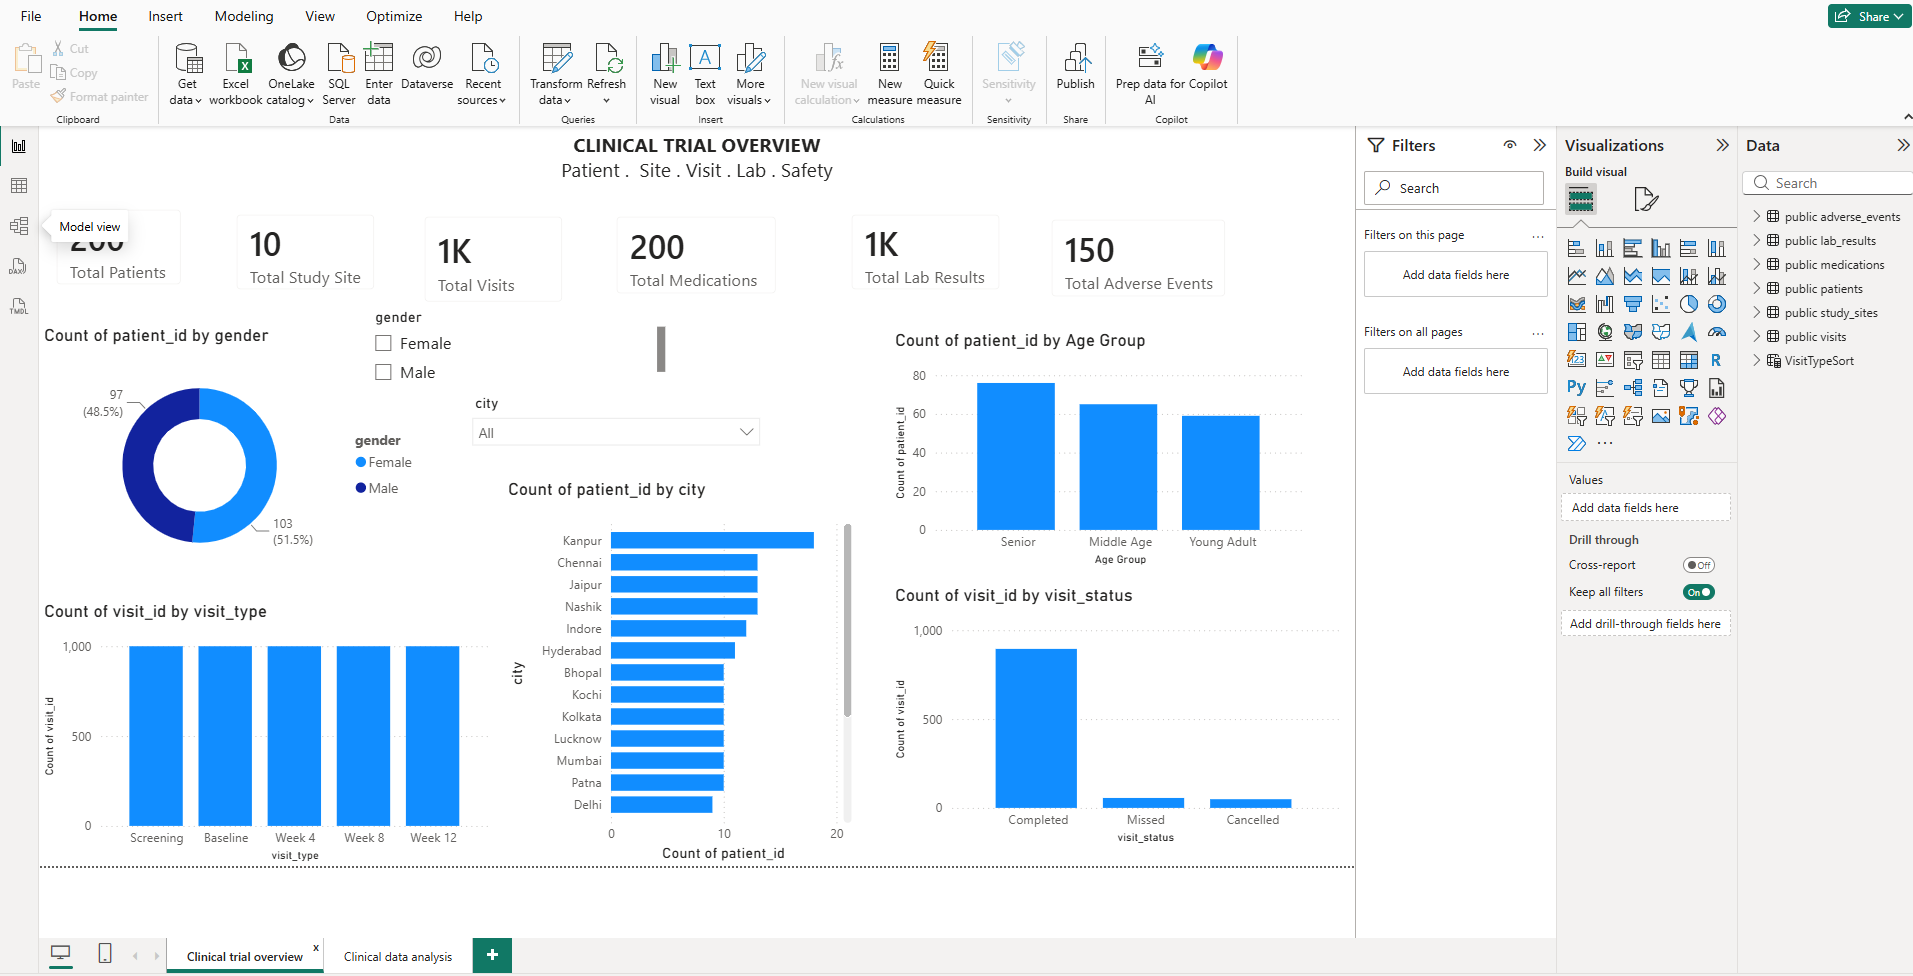

The page's visual inventory and layout, read from the dashboard file:
{"tool":"powerbi","page":{"name":"Clinical trial overview","canvas":[1280,720],"ordinal":0},"visuals":[{"type":"cardVisual","fields":{"Data":["public patients.Total Patients"]},"box":[0,64.2,155.6,108],"z":0},{"type":"cardVisual","fields":{"Data":["public study_sites.Total Study Site"]},"box":[175.1,69.1,168.3,108],"z":1000},{"type":"cardVisual","fields":{"Data":["public visits.Total Visits"]},"box":[357.9,71,168.3,117.7],"z":2000},{"type":"cardVisual","fields":{"Data":["public medications.Total Medications"]},"box":[544.7,71,189.7,109.9],"z":3000},{"type":"cardVisual","fields":{"Data":["public lab_results.Total Lab Results"]},"box":[773.3,69.1,179,108],"z":4000},{"type":"cardVisual","fields":{"Data":["public adverse_events.Total Adverse Events"]},"box":[967.8,73.9,203.3,109.9],"z":5000},{"type":"donutChart","fields":{"Category":["public patients.gender"],"Y":["CountNonNull(public patients.patient_id)"]},"box":[0,193.6,377.4,243.2],"z":6000},{"type":"clusteredColumnChart","fields":{"Category":["public patients.Age Group"],"Y":["CountNonNull(public patients.patient_id)"]},"box":[827.7,198.4,408.5,233.4],"z":7000},{"type":"clusteredBarChart","fields":{"Category":["public patients.city"],"Y":["CountNonNull(public patients.patient_id)"]},"box":[451.3,343.3,344.3,376.4],"z":8000},{"type":"clusteredColumnChart","fields":{"Y":["CountNonNull(public visits.visit_id)"],"Category":["VisitTypeSort.visit_type"]},"box":[0,462,442.6,257.8],"z":9000},{"type":"clusteredColumnChart","fields":{"Category":["public visits.visit_status"],"Y":["CountNonNull(public visits.visit_id)"]},"box":[827.7,446.4,441.6,255.8],"z":10000},{"type":"textbox","box":[390,0,499.9,64.2],"z":10001},{"type":"slicer","fields":{"Values":["public patients.gender"]},"box":[314.2,172.2,299.6,83.6],"z":10002},{"type":"slicer","fields":{"Values":["public patients.city"]},"box":[411.4,255.8,299.6,79.8],"z":10003}]}

Visuals, with their boxes on the page's 1280x720 design canvas (x1, y1, x2, y2). These are canvas units, not pixel positions in the 1913x976 screenshot, which may show the page scaled, cropped or inside an application window:
cardVisual - public patients.Total Patients: (0, 64, 156, 172)
cardVisual - public study_sites.Total Study Site: (175, 69, 343, 177)
cardVisual - public visits.Total Visits: (358, 71, 526, 189)
cardVisual - public medications.Total Medications: (545, 71, 734, 181)
cardVisual - public lab_results.Total Lab Results: (773, 69, 952, 177)
cardVisual - public adverse_events.Total Adverse Events: (968, 74, 1171, 184)
donutChart - public patients.gender x CountNonNull(public patients.patient_id): (0, 194, 377, 437)
clusteredColumnChart - public patients.Age Group x CountNonNull(public patients.patient_id): (828, 198, 1236, 432)
clusteredBarChart - public patients.city x CountNonNull(public patients.patient_id): (451, 343, 796, 720)
clusteredColumnChart - CountNonNull(public visits.visit_id) x VisitTypeSort.visit_type: (0, 462, 443, 720)
clusteredColumnChart - public visits.visit_status x CountNonNull(public visits.visit_id): (828, 446, 1269, 702)
textbox: (390, 0, 890, 64)
slicer - public patients.gender: (314, 172, 614, 256)
slicer - public patients.city: (411, 256, 711, 336)
